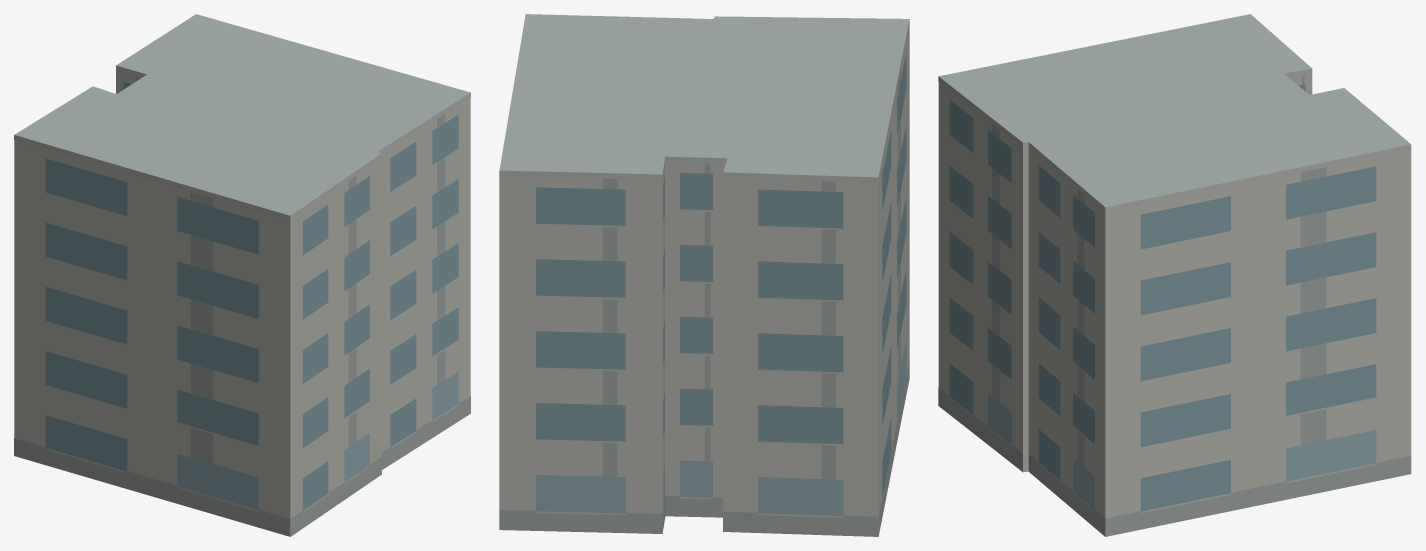
File: survey-upis-32778793.glb
The picture shows the model from 3 angles, left to right: view 1: azimuth 30°, elevation 25°; view 2: azimuth 150°, elevation 25°; view 3: azimuth 270°, elevation 25°; orthographic projection. The views are drawn at different scales.
Visible parts, largest first — view 1: survey-upis-32778793.tmp; view 2: survey-upis-32778793.tmp; view 3: survey-upis-32778793.tmp.
Boxes of the visible parts, left/top/right/bottom form: survey-upis-32778793.tmp: left=14, top=14, right=470, bottom=536; survey-upis-32778793.tmp: left=499, top=14, right=909, bottom=536; survey-upis-32778793.tmp: left=938, top=14, right=1411, bottom=536.
Bounding box in the file's own units: 19.19 × 15.25 × 19.84.
